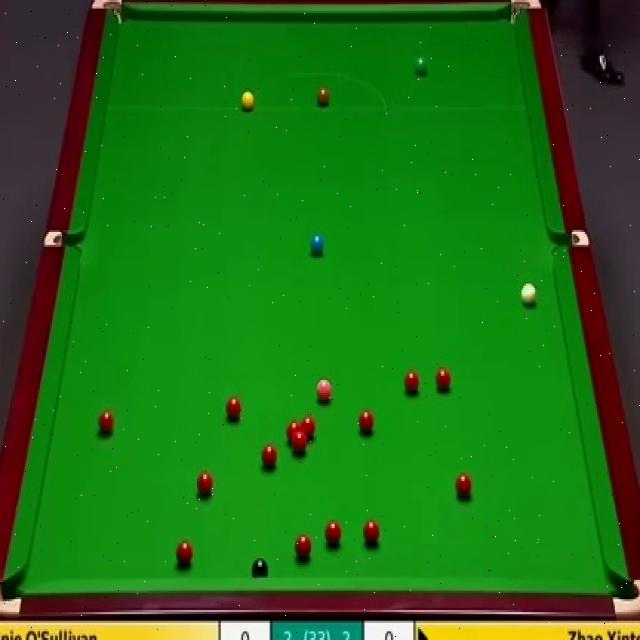black-ball: (251, 559, 268, 576)
blue-ball: (309, 233, 323, 256)
brown-ball: (316, 86, 330, 108)
green-ball: (416, 53, 428, 74)
pink-ball: (314, 372, 330, 398)
red-ball: (454, 473, 474, 500), (175, 539, 194, 566), (257, 440, 275, 468), (324, 521, 342, 549), (294, 533, 312, 560), (96, 412, 116, 436), (224, 394, 242, 420), (196, 471, 214, 497), (292, 430, 308, 459), (298, 415, 316, 440), (434, 366, 450, 394), (363, 521, 381, 544), (359, 408, 374, 434), (287, 421, 302, 446), (404, 372, 420, 394)
white-ball: (520, 282, 537, 307)
yellow-ball: (239, 90, 255, 112)
